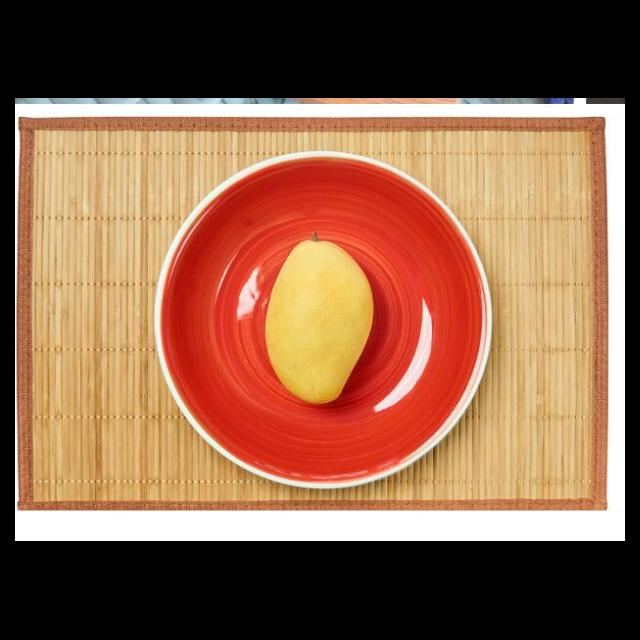mango: (264, 239, 377, 410)
